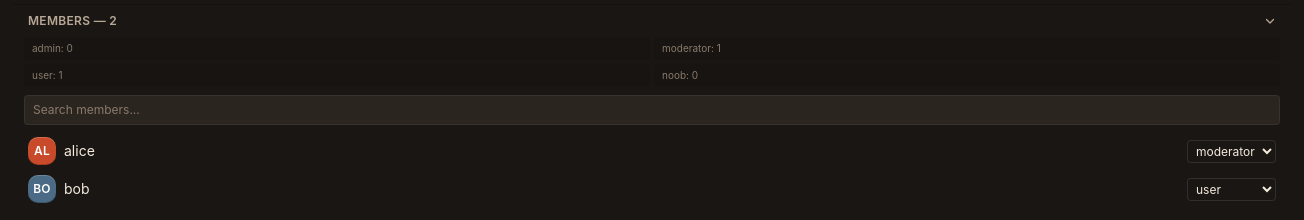
Test: MembersPanel — role change regression › filters members by role and can clear the search
The image size is (1304, 220).
Type "moderator" into the search field with test id "member-search-input" at coordinates (652, 110), box x1=24 y1=95 x2=1280 y2=125
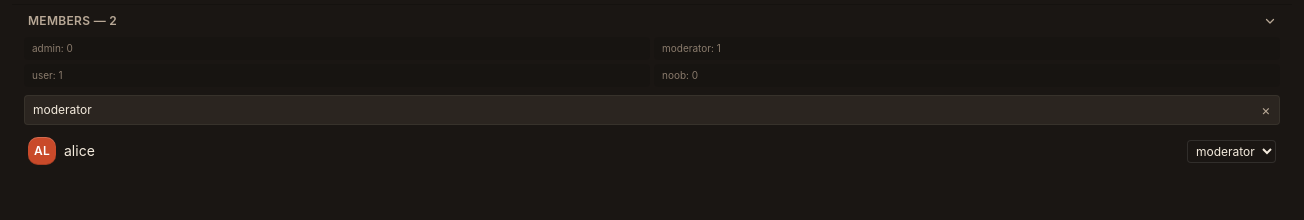
Expected: the text "alice" is shown, x1=64 y1=142 x2=95 y2=159
Expected: the text "bob" is gone
Click the button with test id "member-search-clear" at coordinates (1266, 110), box x1=1256 y1=100 x2=1276 y2=120
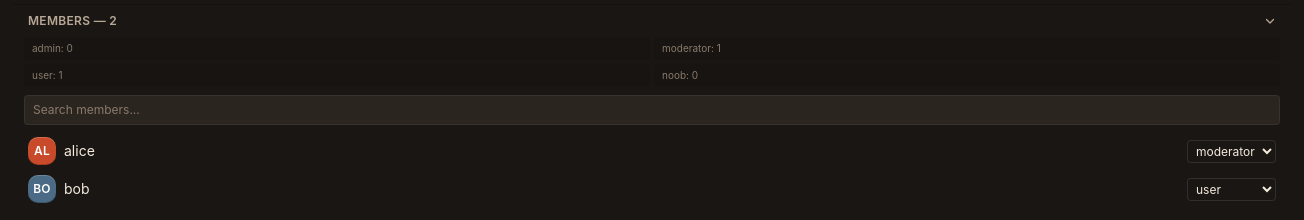
Expected: the text "alice" is shown, x1=64 y1=142 x2=95 y2=159
Expected: the text "bob" is shown, x1=64 y1=180 x2=90 y2=197
